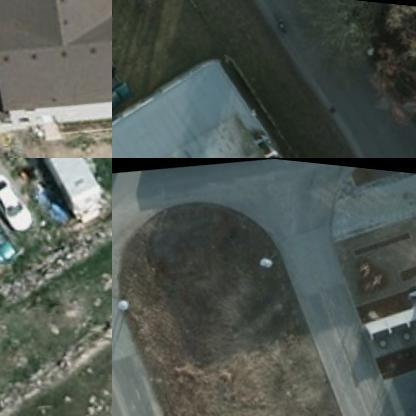camping car: (28, 158, 110, 221)
car: (0, 158, 33, 232), (0, 188, 24, 270), (112, 75, 135, 114)
